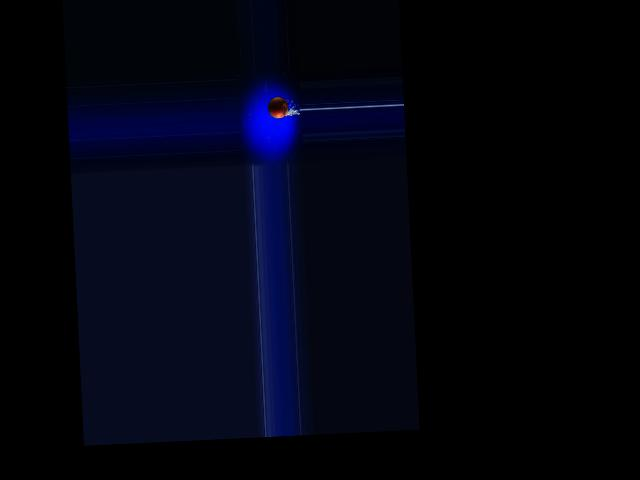tomato: (267, 96, 288, 118)
